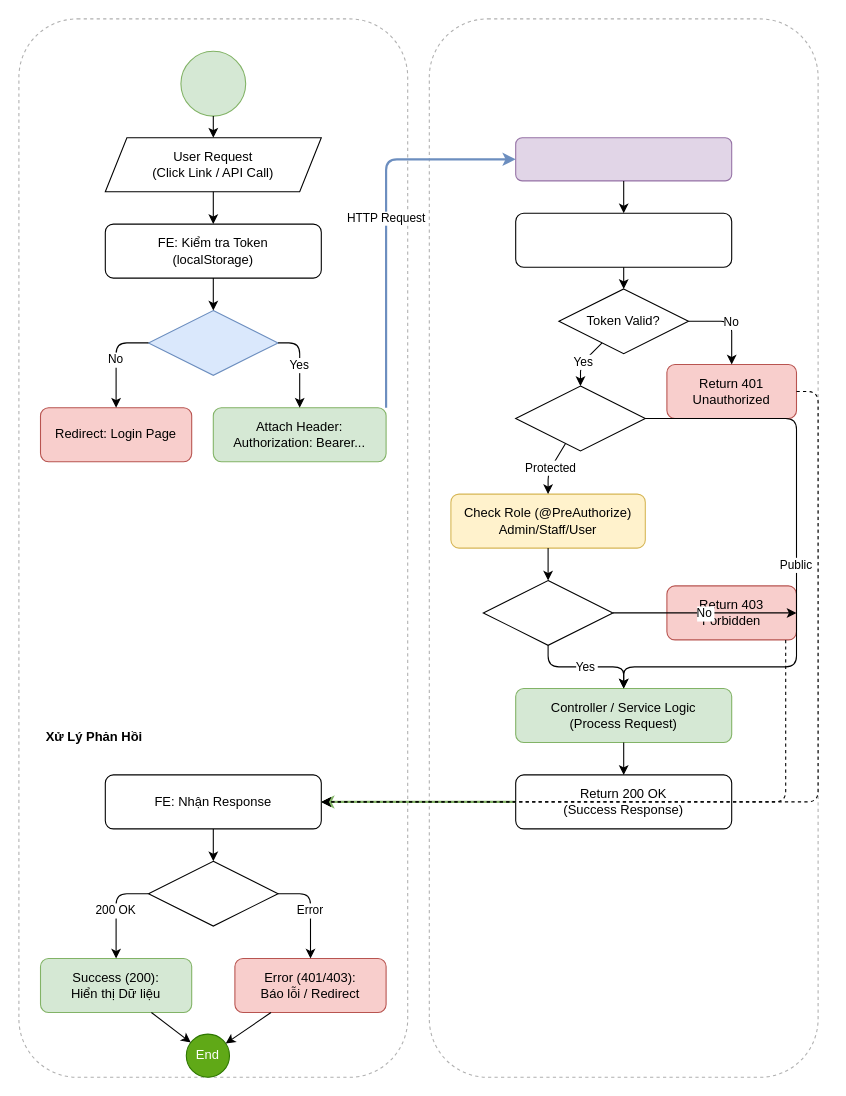
The diagram is 846 pixels wide and 1096 high, and some of its shapes have lost their labels. The centre of each missing label's shape, as x and y in pixels:
"Có Token?" goes at [212,342].
"Endpoint Type?" goes at [580,418].
"JwtAuthenticationFilter (Validate Token)" goes at [623,239].
"Role OK?" goes at [547,612].
"Security Filter Chain" goes at [623,159].
"Start" goes at [213,83].
"Status Code?" goes at [212,893].
